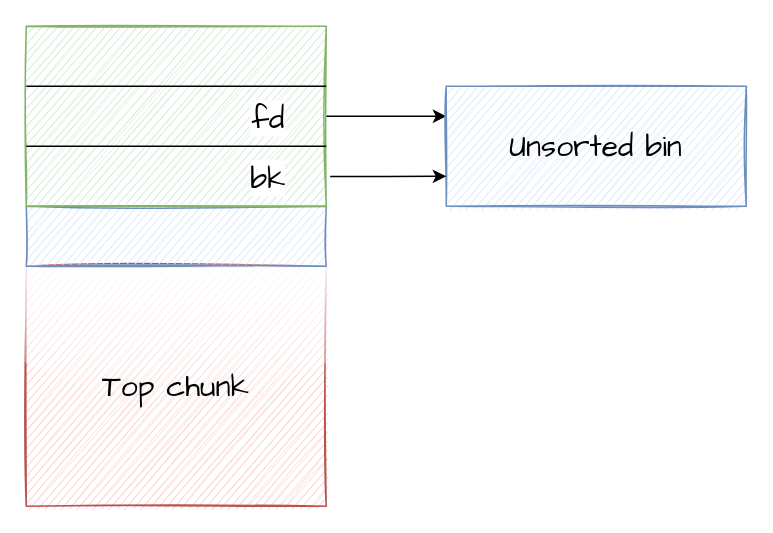
The diagram is 773 pixels wide and 533 high, and some of its shapes have lost their labels. The box of each missing label's shape, as (x1, y1, x2, y2) in pixels:
Chunk A: (25, 25, 326, 206)
Chunk B: (25, 205, 326, 266)
